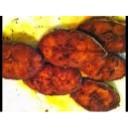seerfish: (41, 29, 107, 70), (67, 78, 122, 114), (20, 64, 82, 95), (1, 42, 44, 80), (78, 20, 126, 52), (82, 52, 126, 81)
